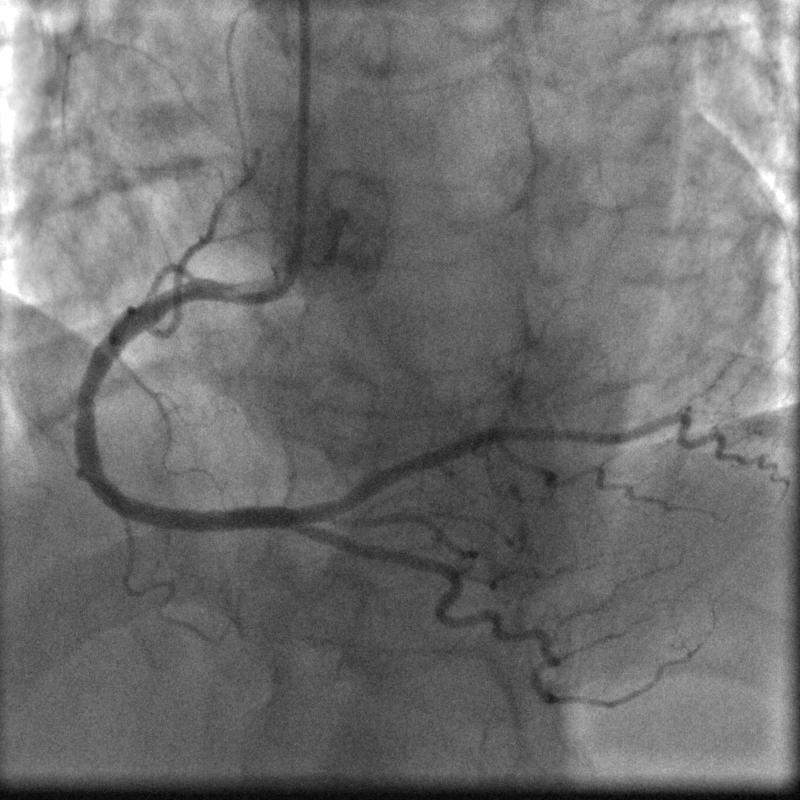Stenosis: (73, 372, 103, 428)
